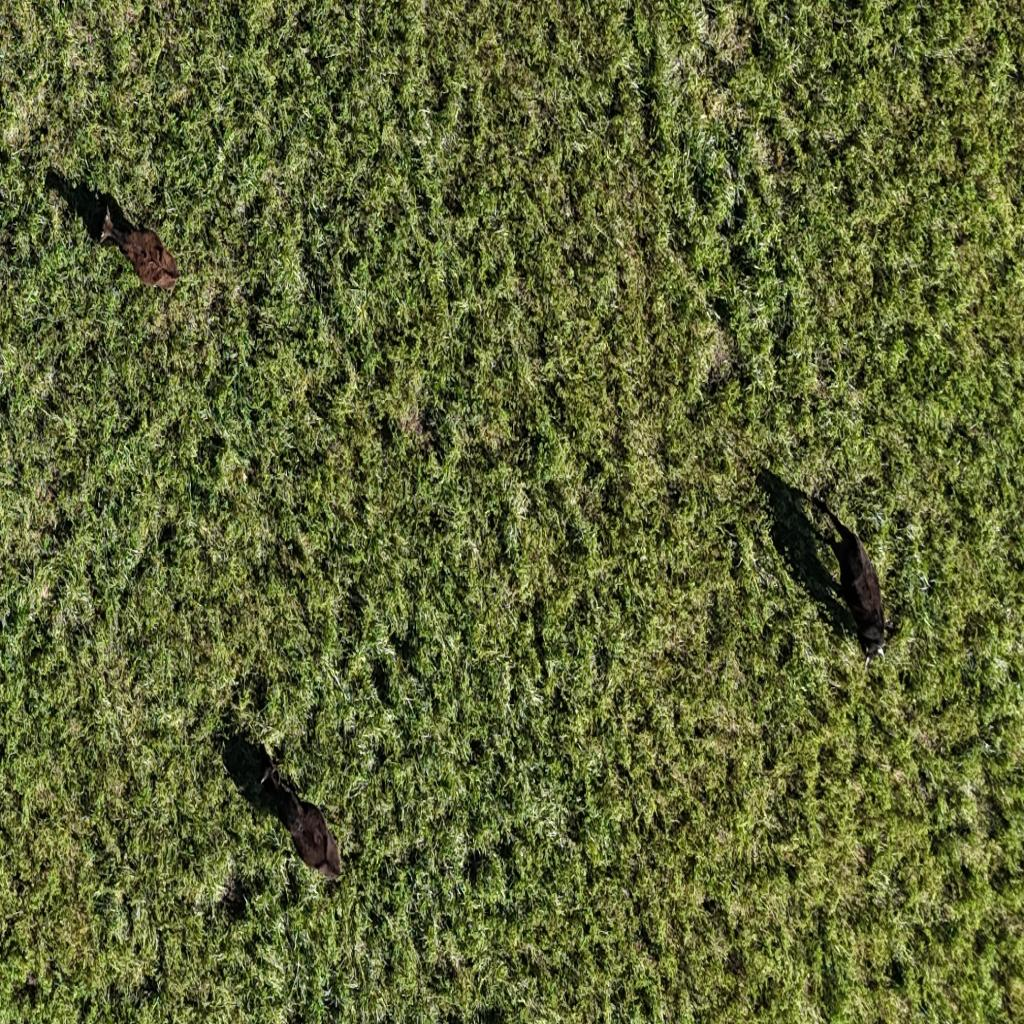cow: (734, 450, 912, 670), (220, 725, 378, 905), (74, 178, 208, 330)
